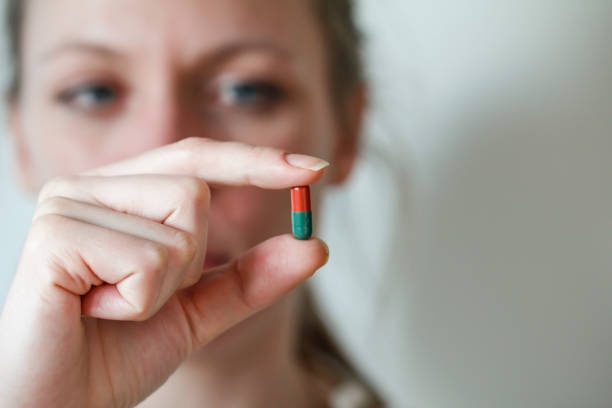pills: (292, 181, 313, 241)
